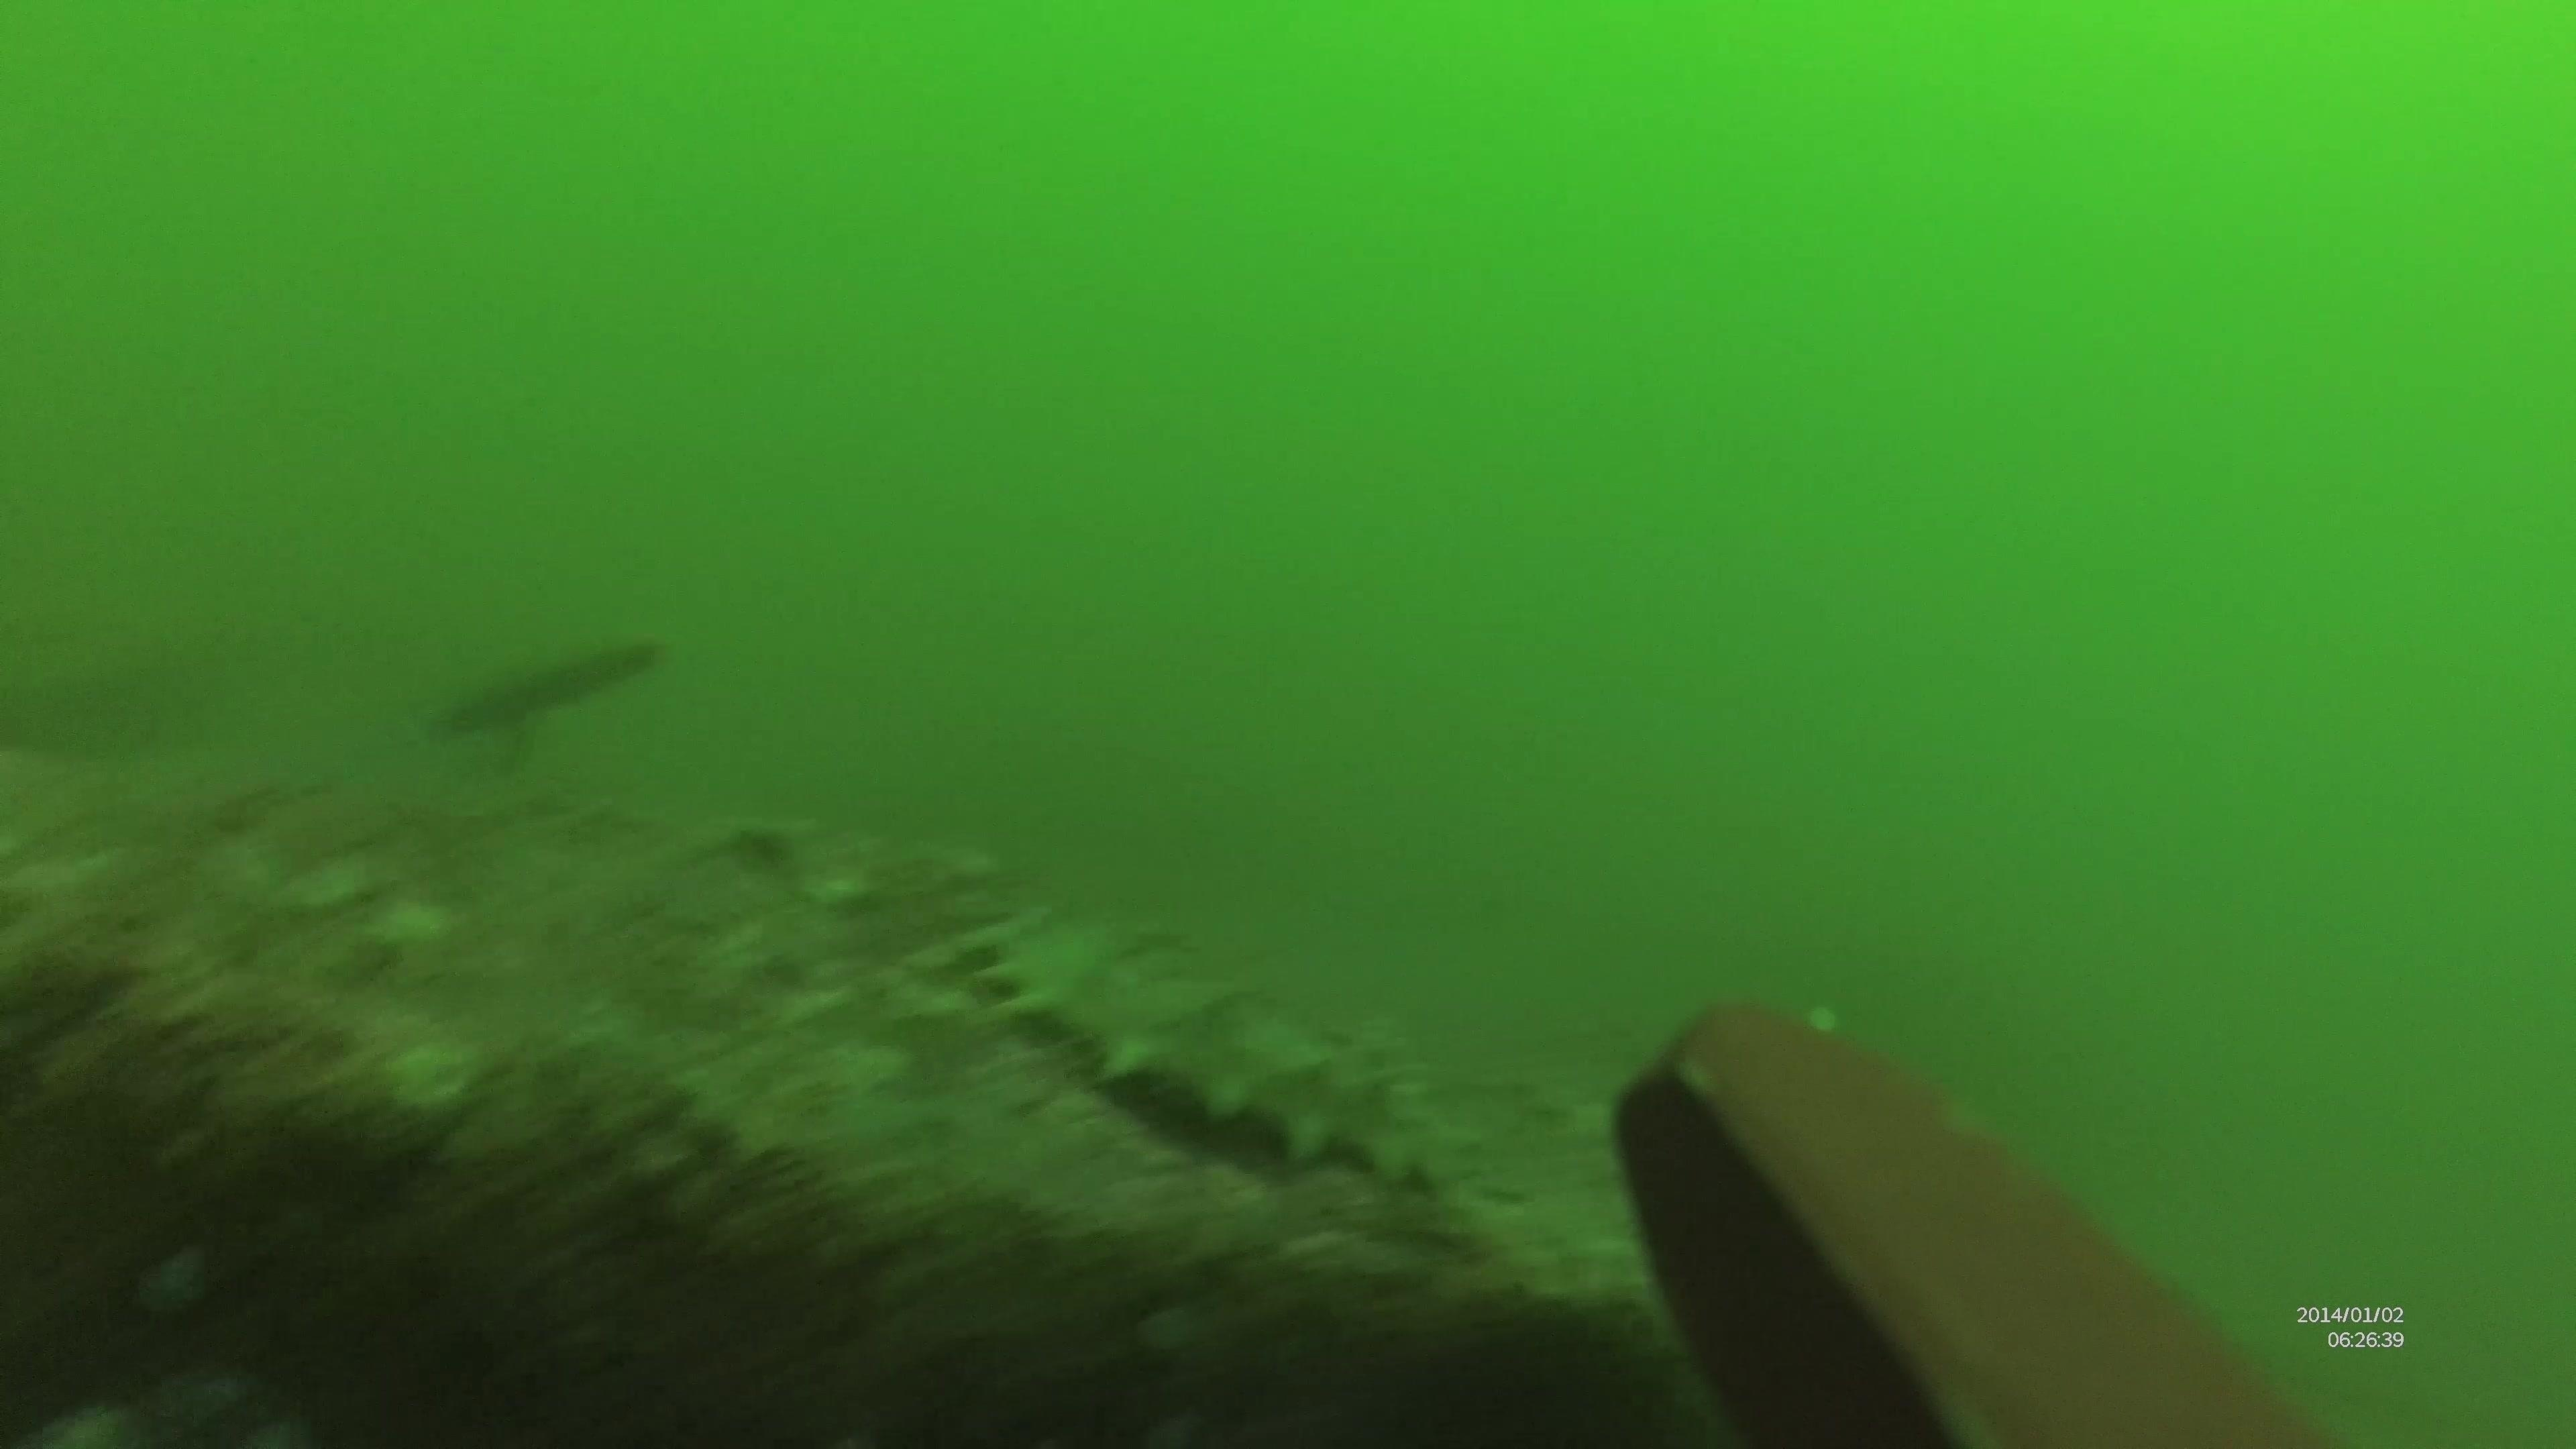holothurian: (948, 883, 1445, 1184)
